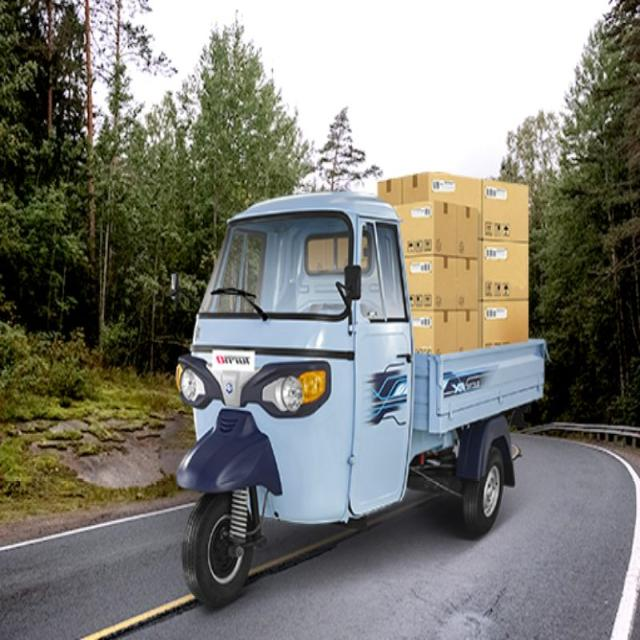autorickshaw: (176, 193, 545, 605)
